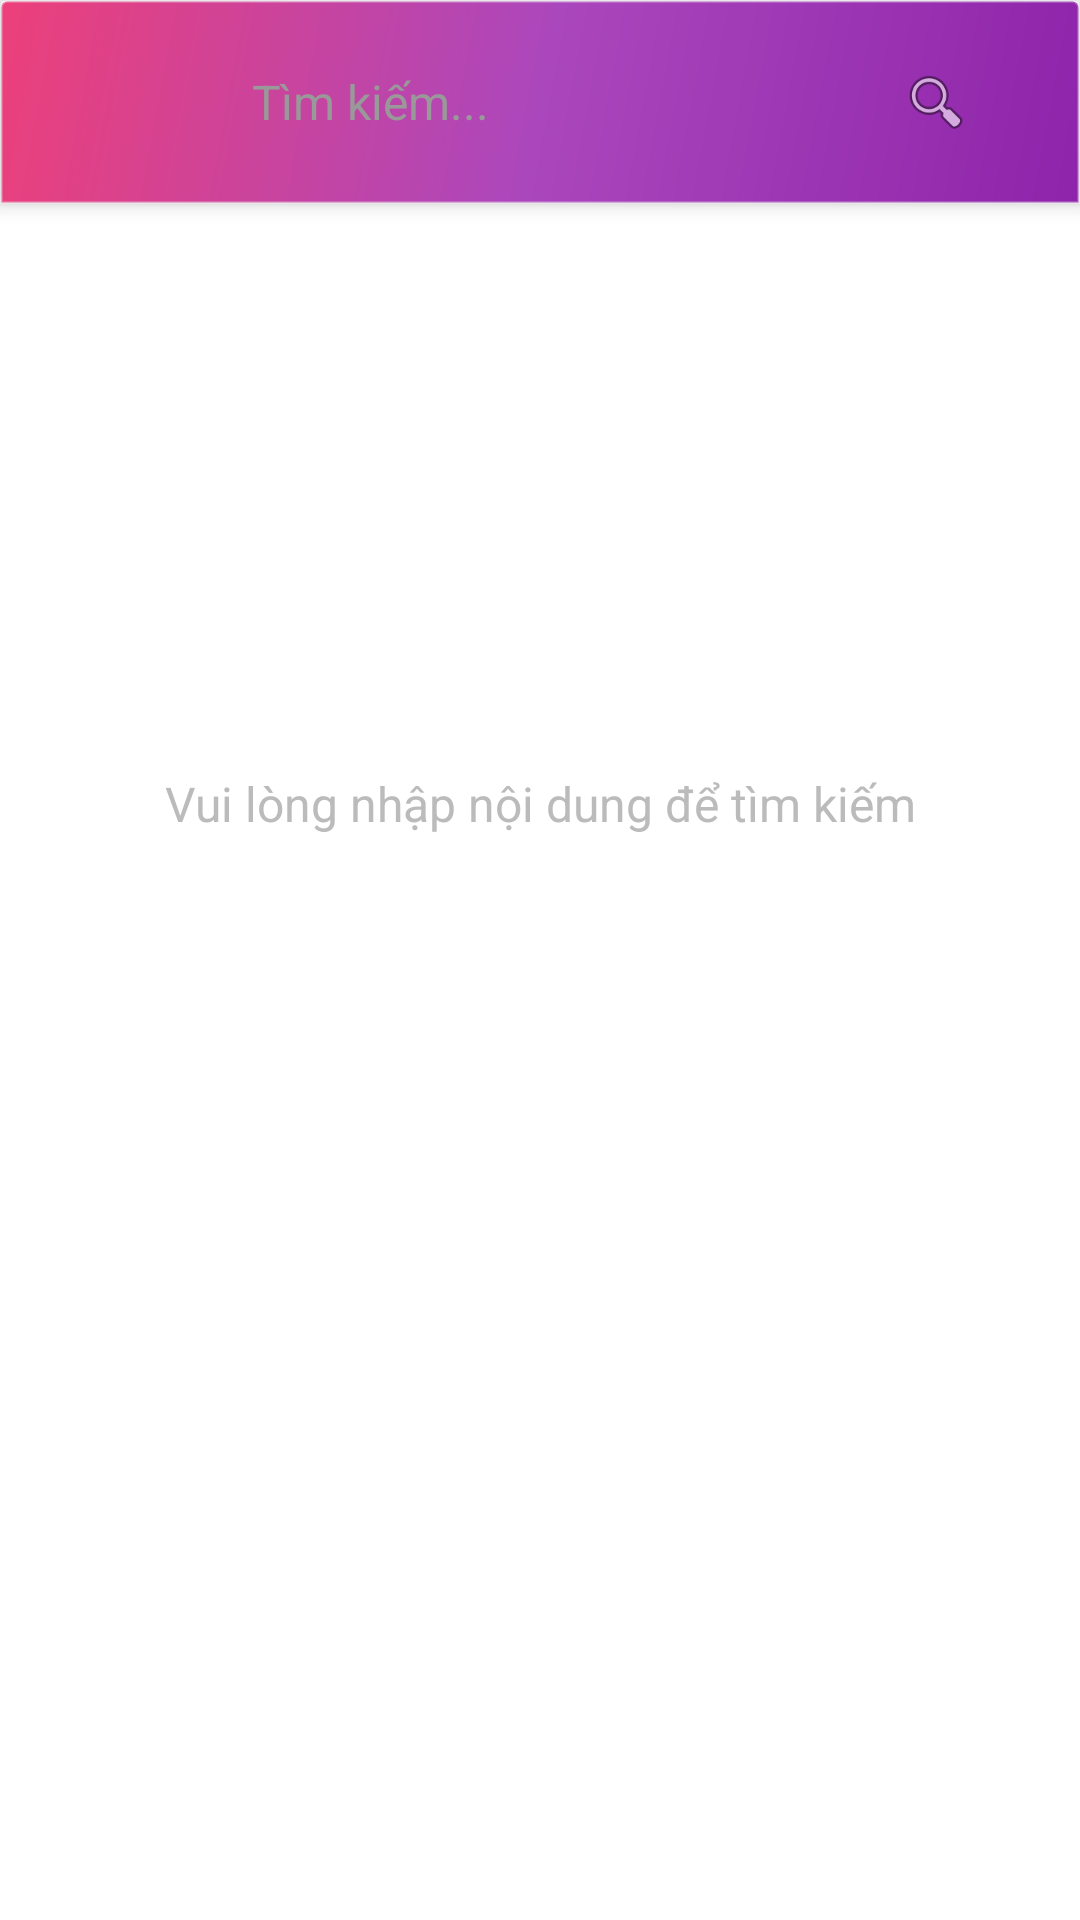

Where to tap for icons on this 1080 x 1920 app screen, as (x=x, y=y):
search: (x=936, y=102)
